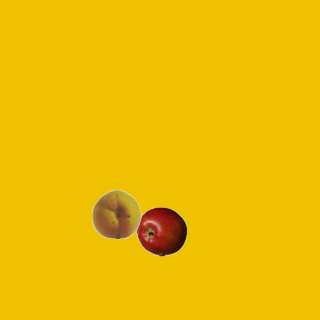Apple Braeburn: (136, 206, 186, 256)
Peach 2: (91, 188, 141, 238)
